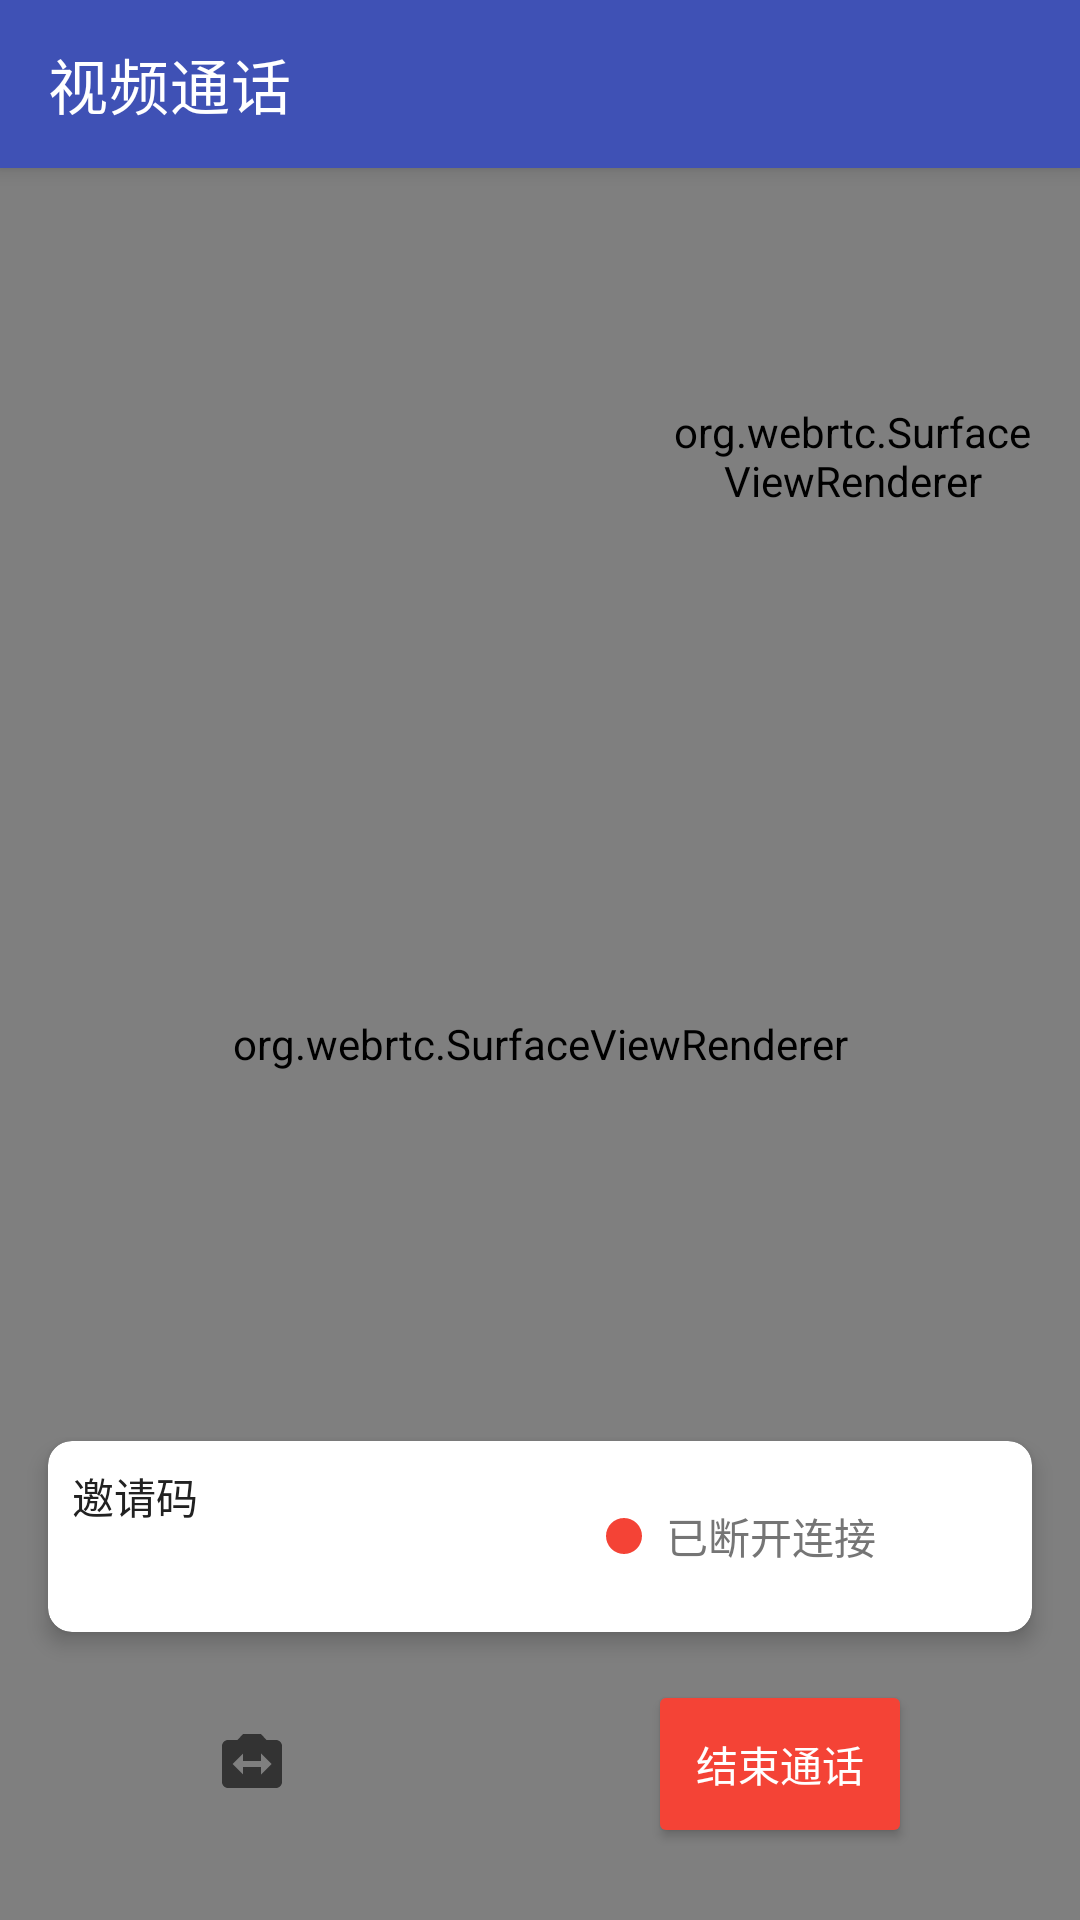

Screen size 1080x1920. Icon name, then its box in pixels as {"x1": x1, "y1": y1, "x2": x2, "y2": y2}:
切换摄像头: {"x1": 222, "y1": 1734, "x2": 282, "y2": 1788}
